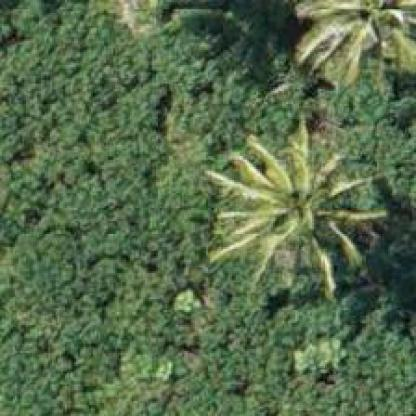coconut tree: (203, 120, 388, 295), (291, 0, 415, 99)
